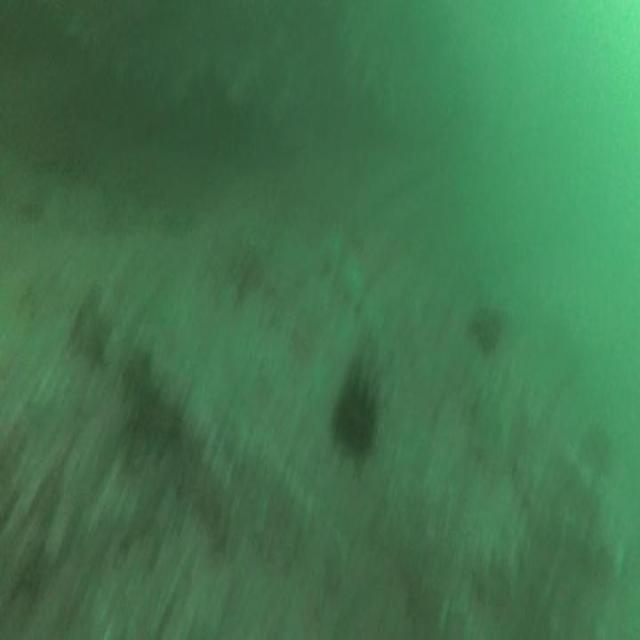echinus: (332, 387, 375, 463), (468, 306, 501, 352)
